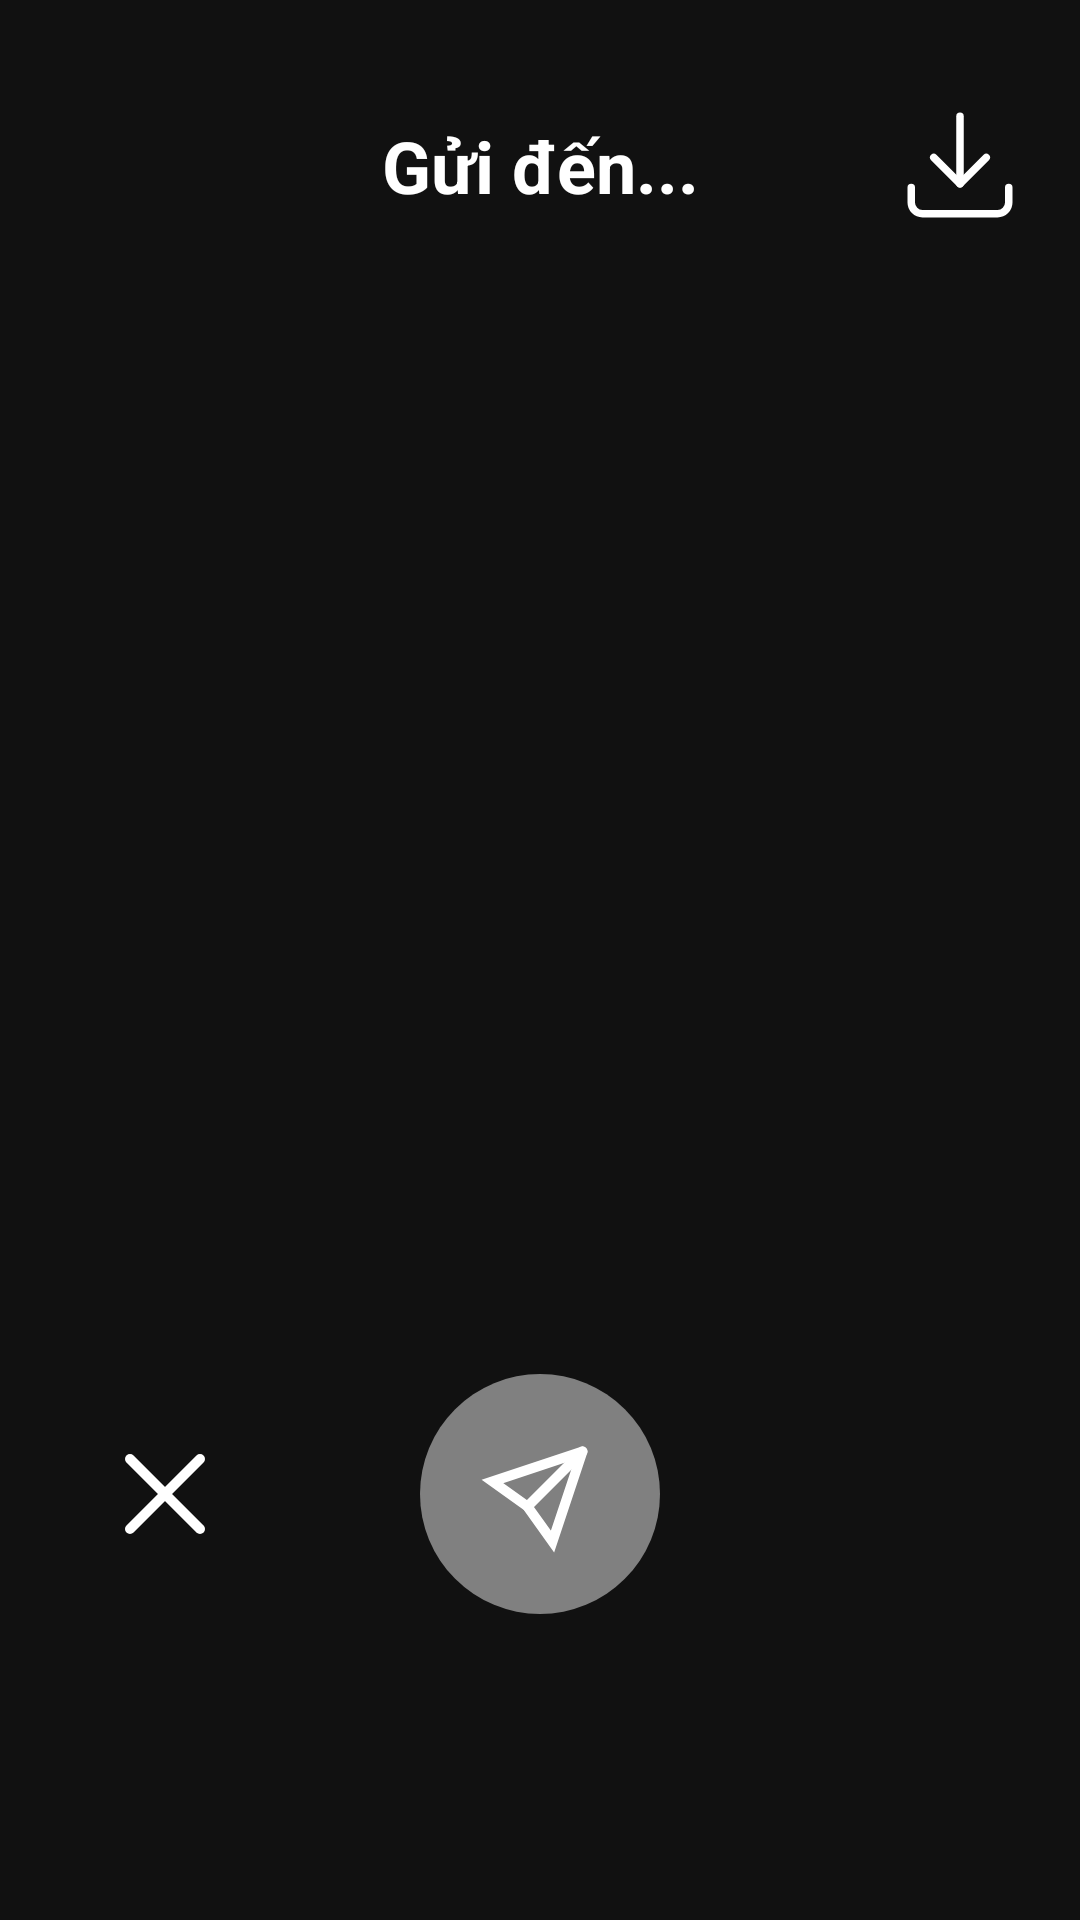

Icon bounding boxes for this 1080 x 1920 phone screenshot, format (x1, y1, x2, y2):
close: (125, 1454, 205, 1534)
download: (907, 112, 1013, 218)
send: (420, 1374, 660, 1614)
